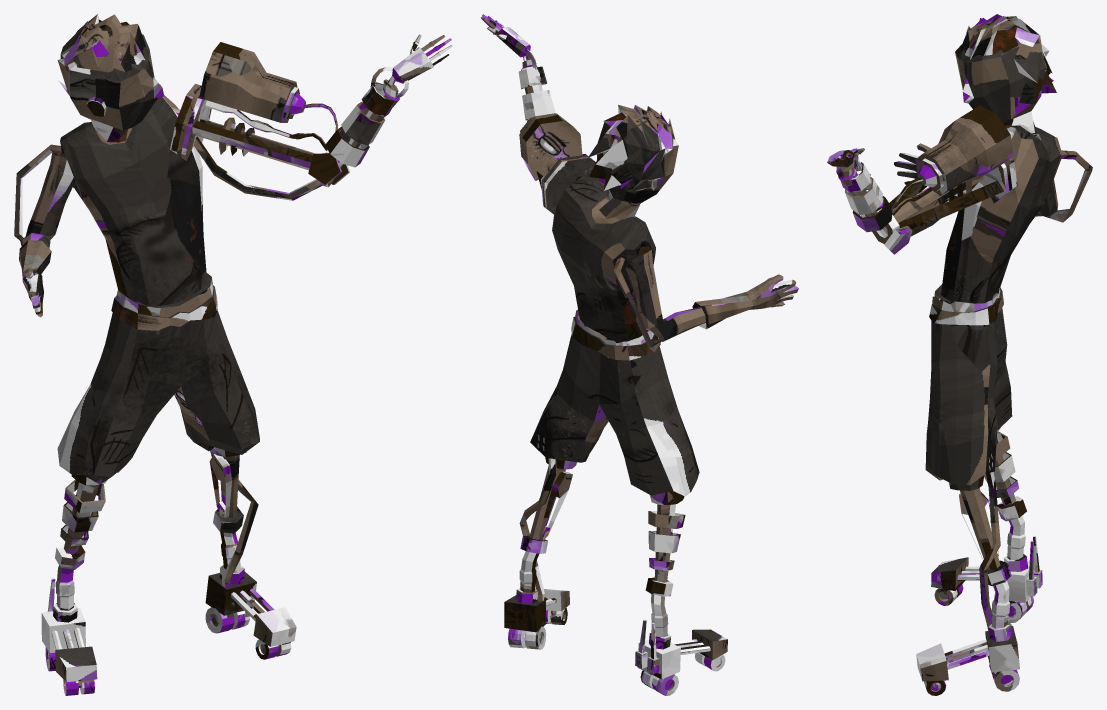
The model's file is CyborgFINALAnimation_000052.obj.
3 views of the same model, side by side, from view 1: azimuth 30°, elevation 25°; view 2: azimuth 150°, elevation 25°; view 3: azimuth 270°, elevation 25° (orthographic). The views are drawn at different scales.
Parts seen in each view (by area): view 1: CyborgMesh_Cube.002; view 2: CyborgMesh_Cube.002; view 3: CyborgMesh_Cube.002.
Boxes of the visible parts, x1=… form: CyborgMesh_Cube.002: x1=14, y1=14, x2=452, y2=695; CyborgMesh_Cube.002: x1=481, y1=14, x2=798, y2=695; CyborgMesh_Cube.002: x1=827, y1=14, x2=1092, y2=695.
Bounding box in the file's own units: 5.99 × 9.55 × 3.73.
